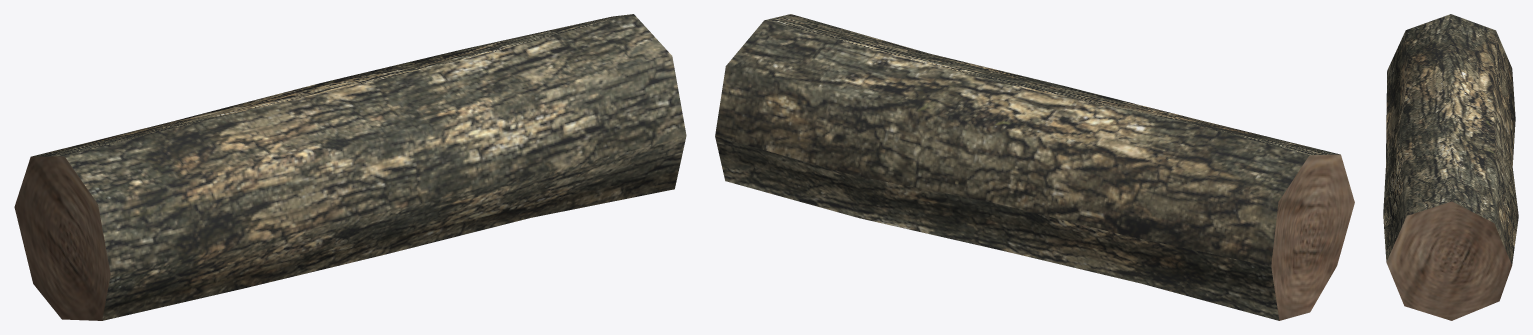
The model's file is prop_logs_2.glb.
3 views of the same model, side by side, from view 1: azimuth 30°, elevation 25°; view 2: azimuth 150°, elevation 25°; view 3: azimuth 270°, elevation 25° (orthographic). The views are drawn at different scales.
Visible parts, largest first — view 1: prop_logs_2_mesh; view 2: prop_logs_2_mesh; view 3: prop_logs_2_mesh.
Boxes of the visible parts, x1,y1,x2,y2 form: prop_logs_2_mesh: (14,14,686,320); prop_logs_2_mesh: (715,14,1354,320); prop_logs_2_mesh: (1383,14,1518,320).
Size of the model in its own units: 1.52 by 0.4336 by 0.45.
Materials: 1 (1 with a texture image).
